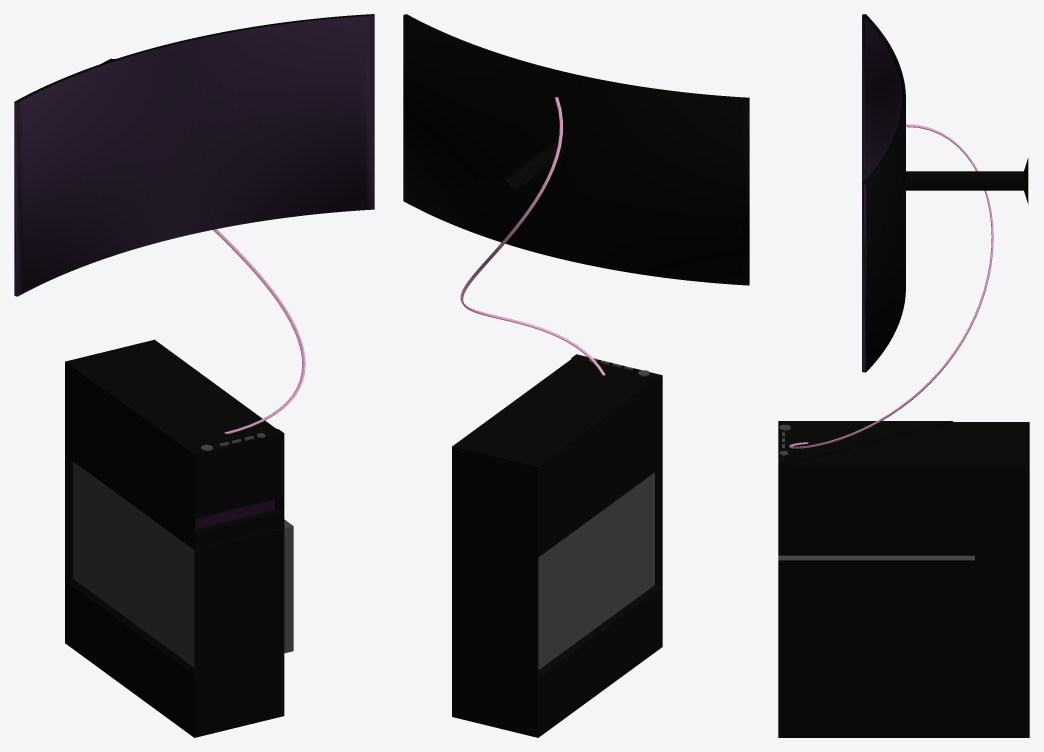
File: comp 1.fbx
3 views of the same model, side by side, from view 1: azimuth 30°, elevation 25°; view 2: azimuth 150°, elevation 25°; view 3: azimuth 270°, elevation 25° (orthographic). The views are drawn at different scales.
Visible parts, largest first — view 1: Computer, Screen, Cable; view 2: Computer, Screen, Connector to wall, Cable; view 3: Computer, Screen, Connector to wall, Cable.
Boxes of the visible parts, x1,y1,x2,y2 form: Computer: [65, 339, 293, 737]; Screen: [14, 14, 374, 296]; Cable: [213, 229, 305, 433]; Computer: [452, 354, 662, 737]; Screen: [403, 14, 749, 285]; Connector to wall: [475, 144, 564, 217]; Cable: [460, 97, 605, 375]; Computer: [778, 421, 1029, 737]; Screen: [862, 14, 905, 372]; Connector to wall: [906, 158, 1028, 203]; Cable: [789, 124, 993, 448].
Size of the model in its own units: 120 by 203 by 75.
